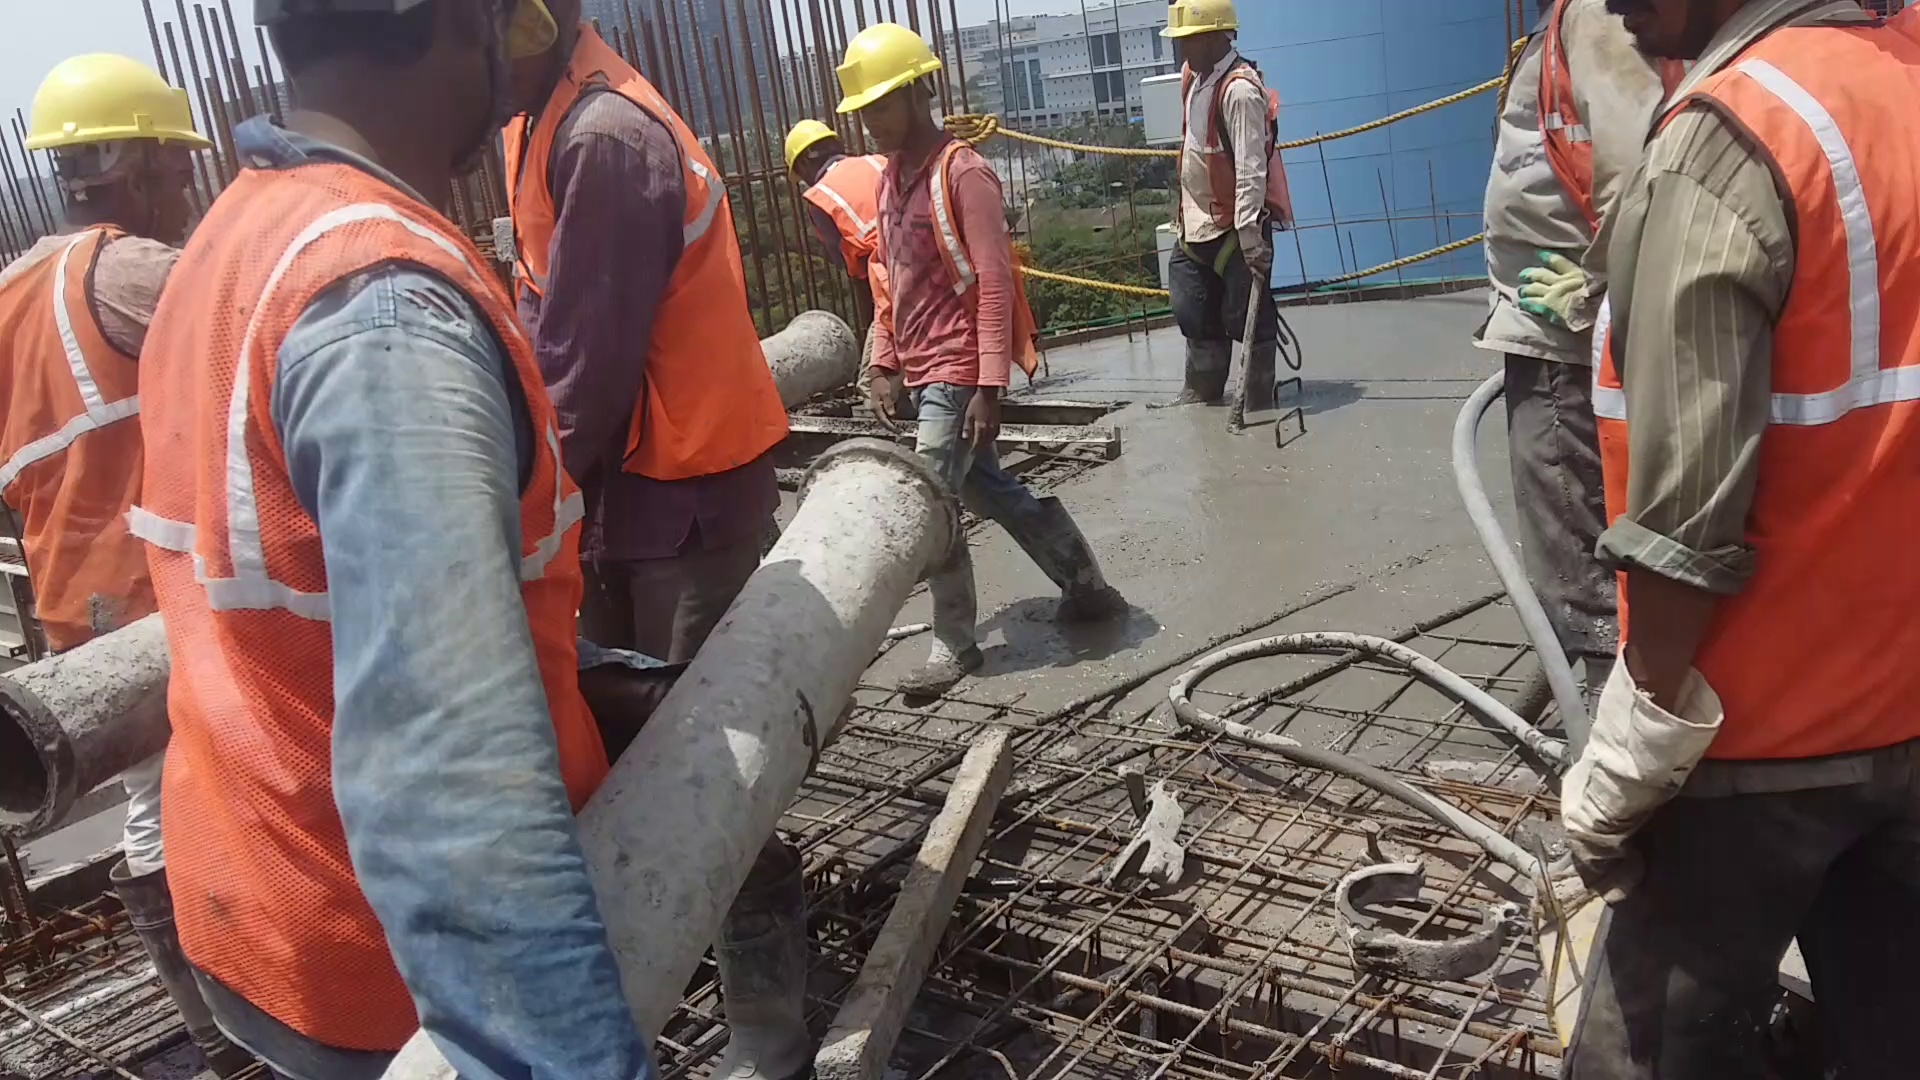SAFE: (7, 51, 146, 612), (835, 16, 1009, 398), (1164, 3, 1280, 251)
